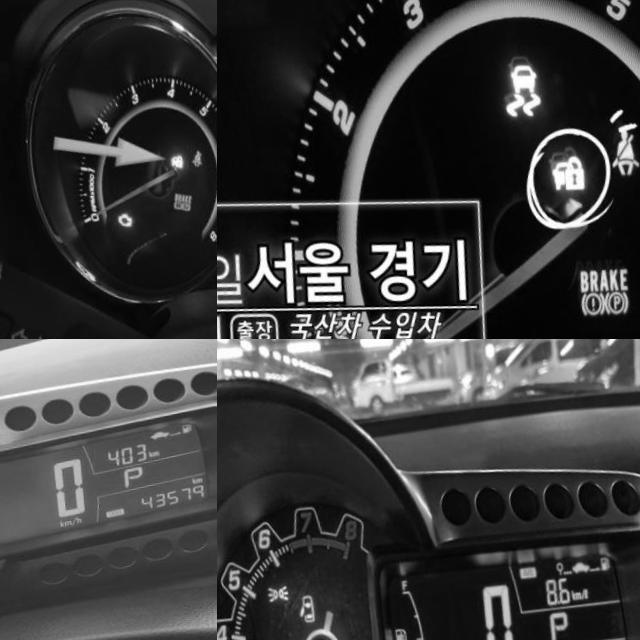Doors: (287, 598, 305, 628)
SideLamp: (254, 587, 278, 608)
